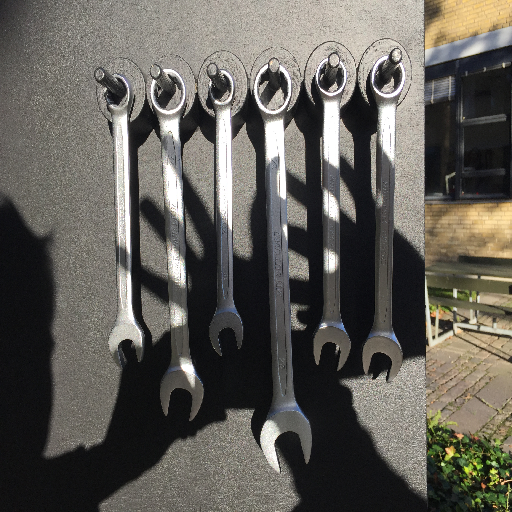bottom: (258, 407, 315, 475), (157, 361, 207, 423), (361, 329, 403, 384), (310, 321, 352, 375), (106, 317, 146, 370), (208, 306, 246, 358)
top: (252, 62, 293, 119), (149, 66, 188, 119), (368, 53, 406, 105), (312, 56, 349, 102), (100, 71, 136, 116), (206, 69, 238, 108)
